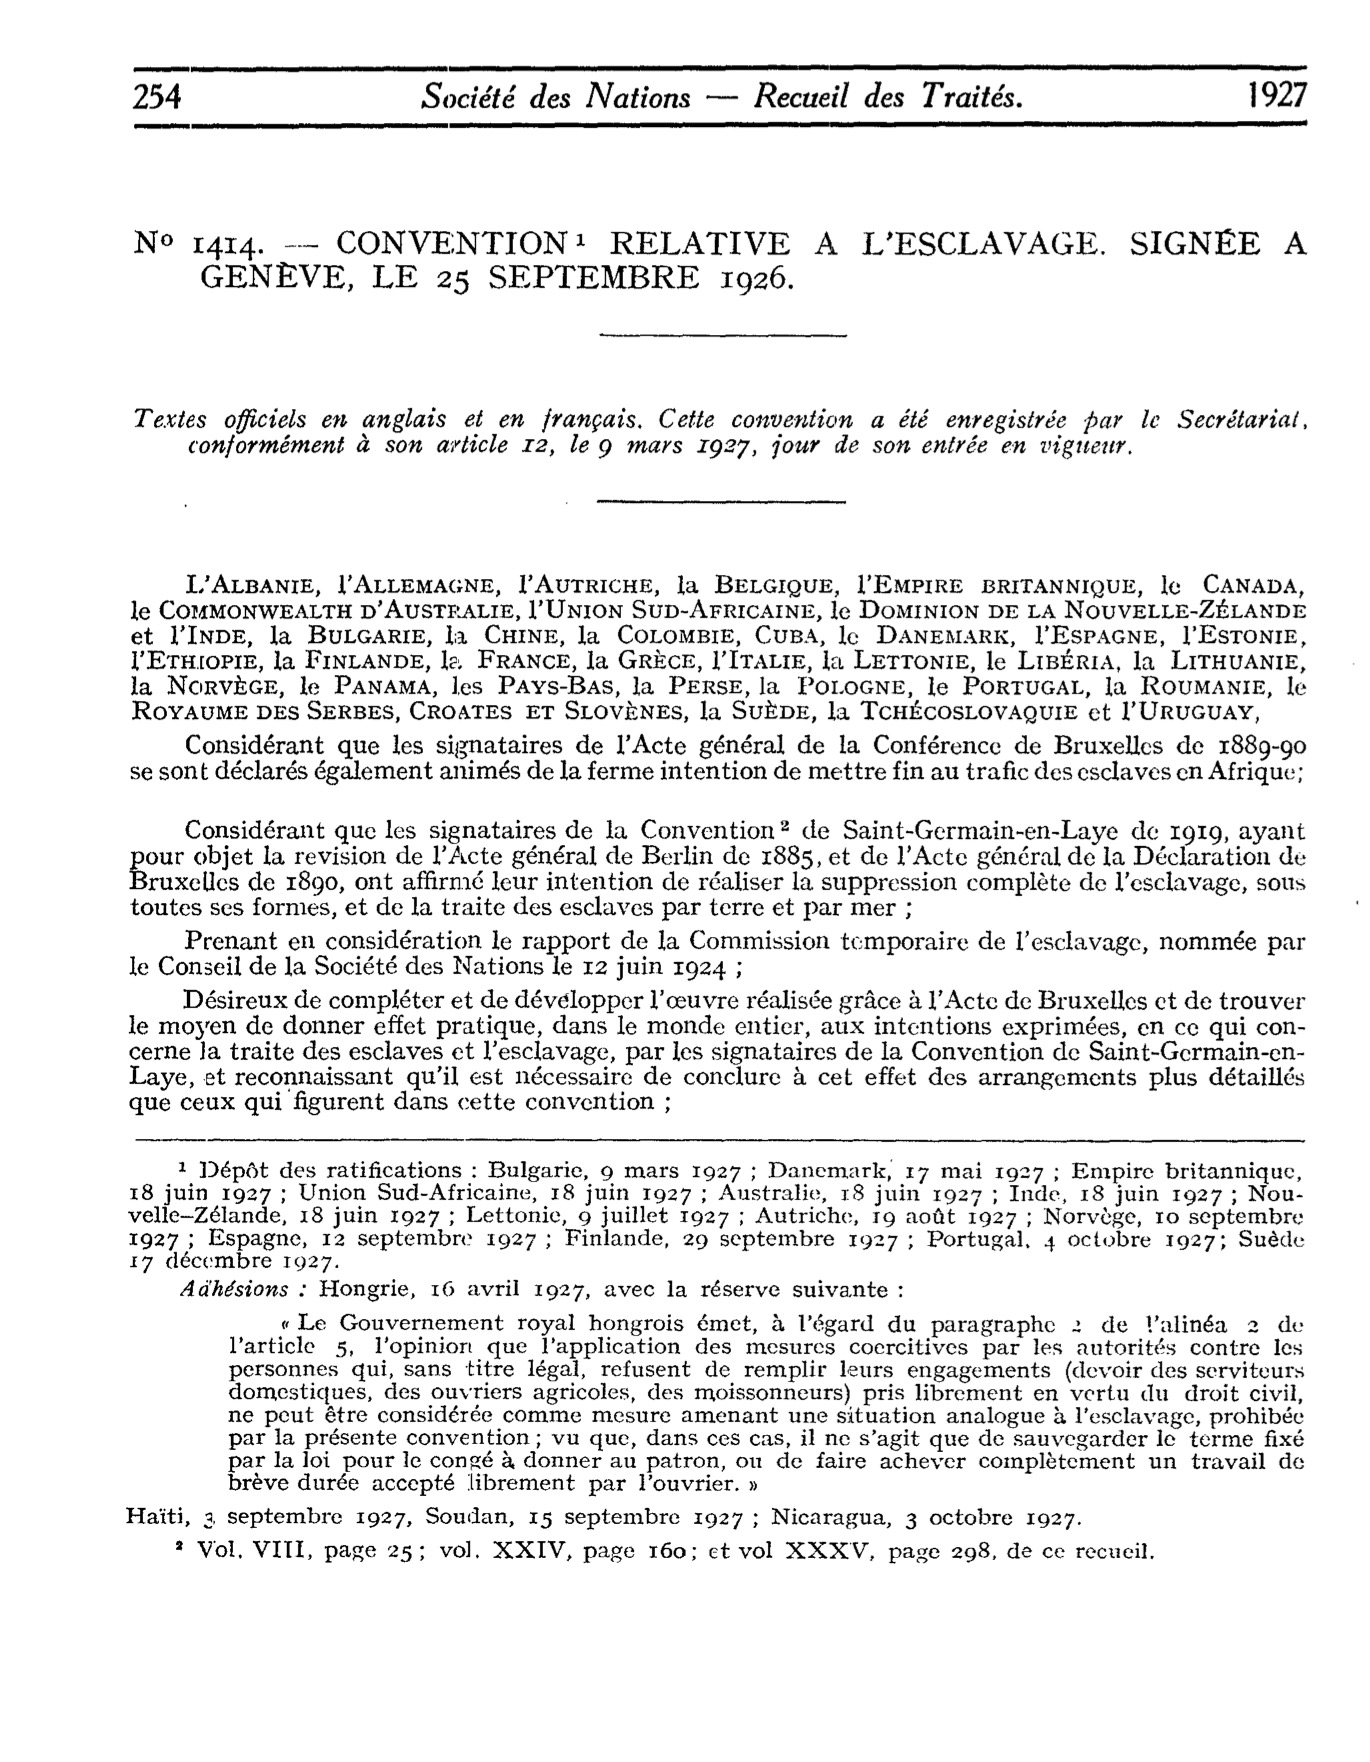MainZone-Date: (1239, 72, 1313, 115)
MainZone-Head: (121, 216, 1319, 308)
MainZone-P: (121, 563, 1317, 729), (118, 985, 1316, 1125), (119, 811, 1319, 925), (122, 394, 1317, 477), (120, 727, 1318, 807), (117, 924, 1318, 986)
MarginTextZone-Notes: (117, 1154, 1317, 1532), (170, 1533, 1165, 1574)
NumberingZone: (127, 75, 193, 119)
RunningTitleZone: (411, 72, 1035, 122)
